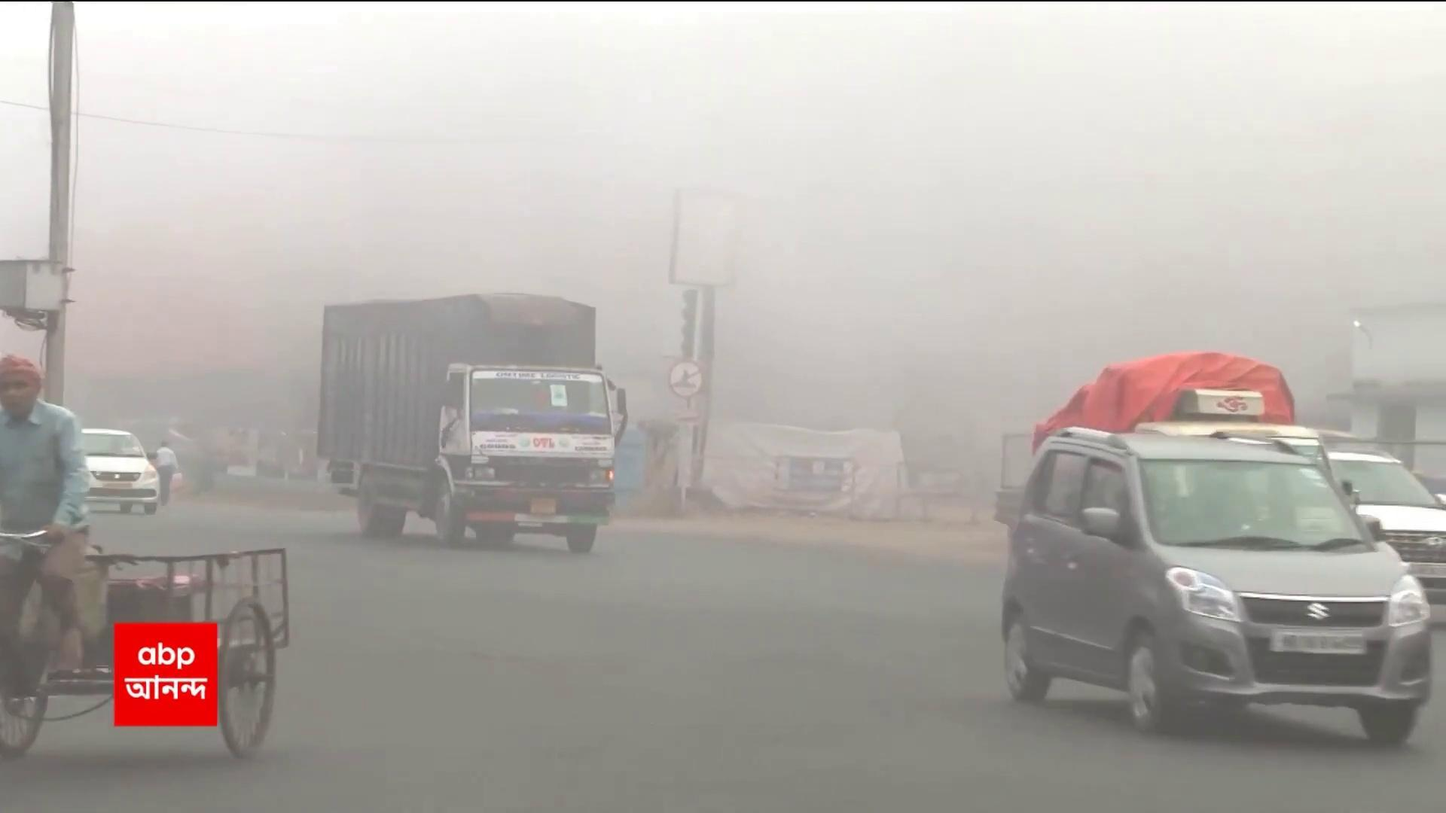Car: (999, 422, 1433, 747)
Truck: (312, 289, 623, 554)
